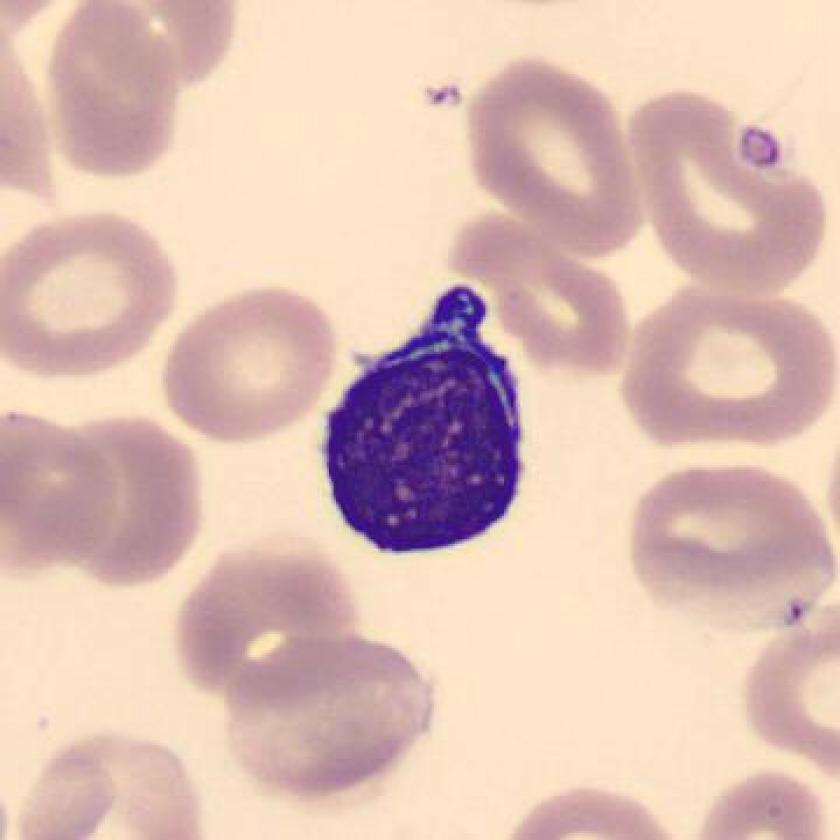lymphocyte: (314, 277, 552, 571)
